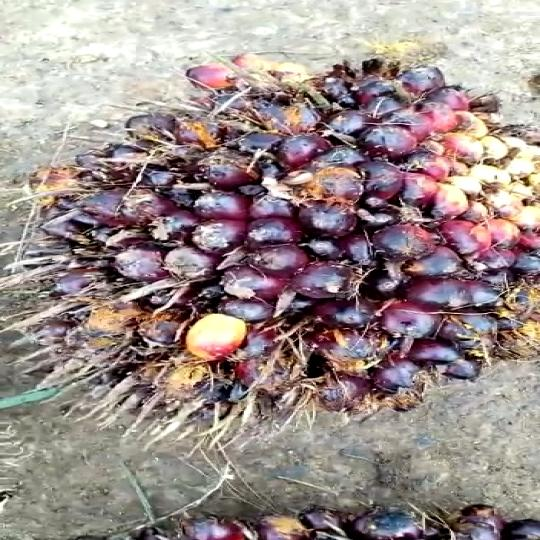masak: (7, 45, 540, 451)
